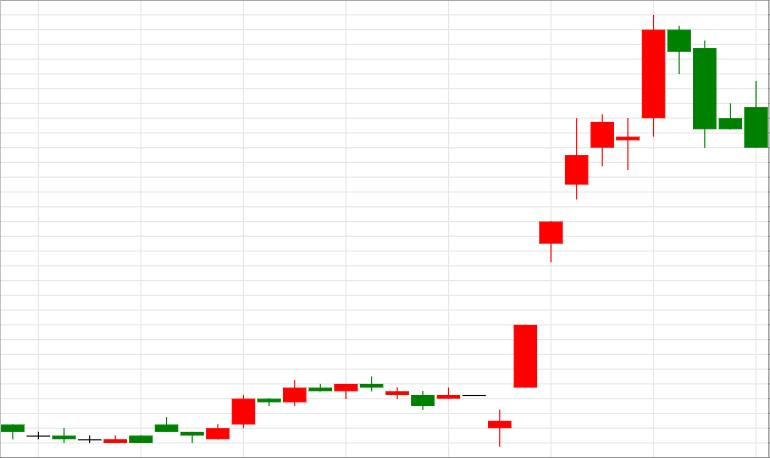shooting_star_fall: (488, 119, 588, 446)
